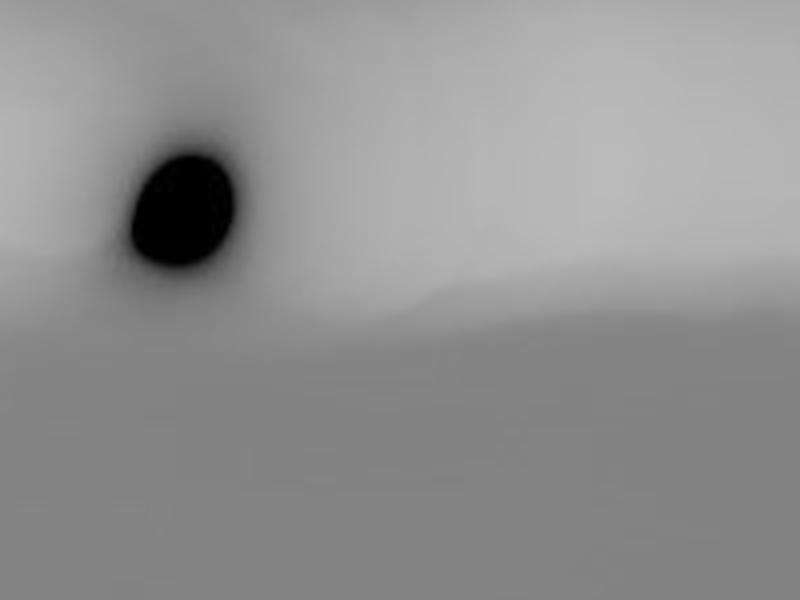defect: (130, 151, 246, 272)
